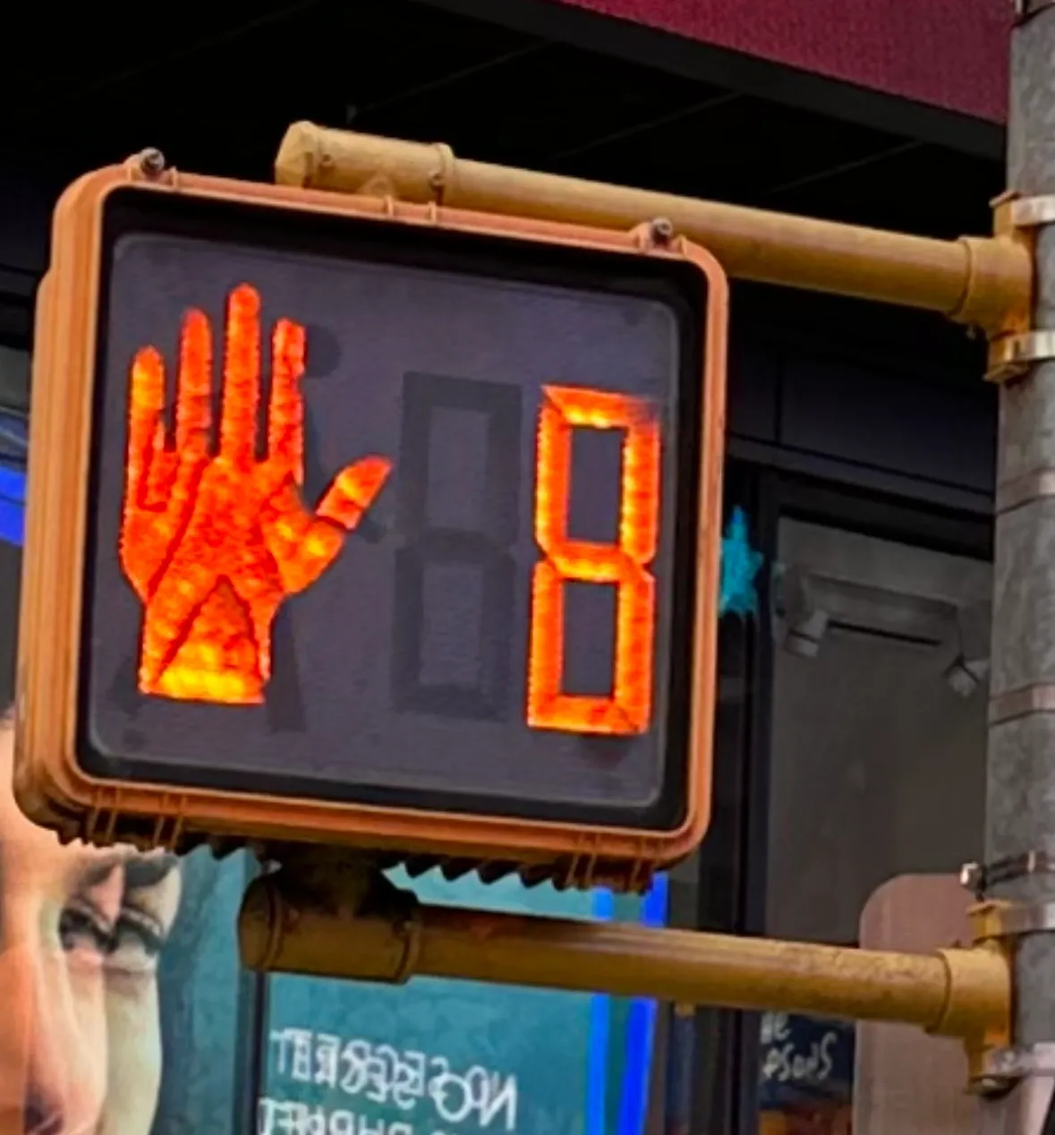ped_stop: (122, 277, 394, 712)
